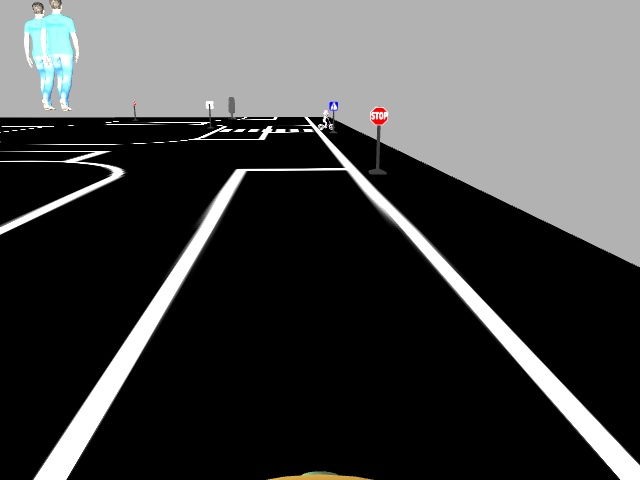Stop: (368, 106, 388, 125)
